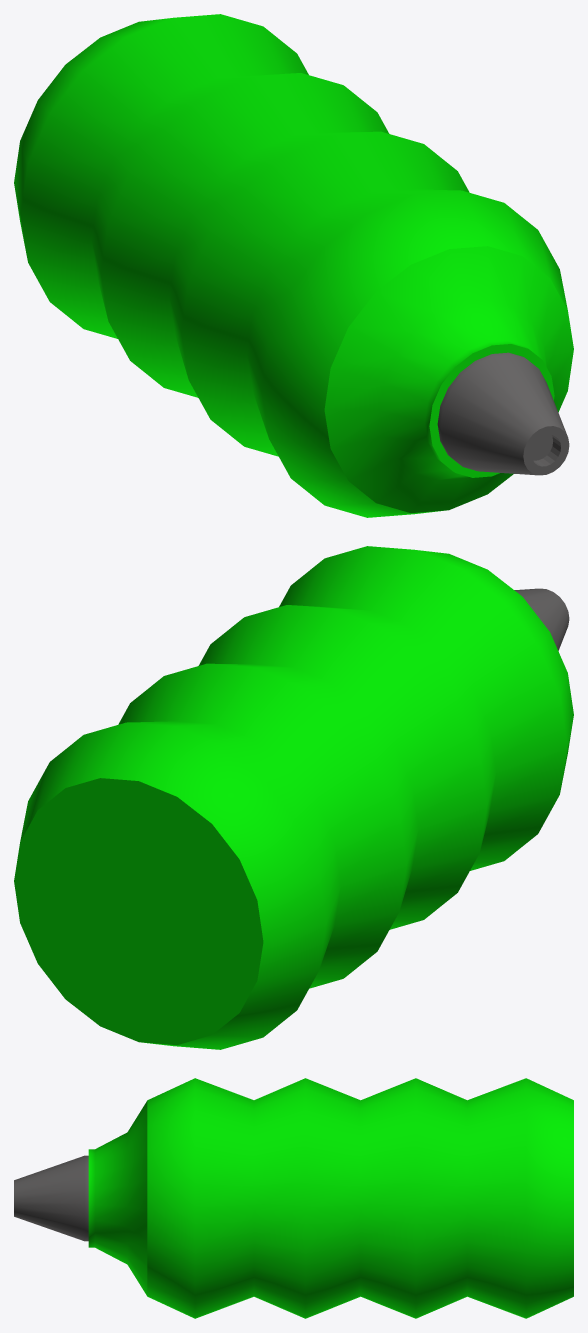
The model's file is Gun_03.fbx.
3 renders of one model, top to bottom at view 1: azimuth 30°, elevation 25°; view 2: azimuth 150°, elevation 25°; view 3: azimuth 270°, elevation 25°, orthographic. The views are drawn at different scales.
Parts seen in each view (by area): view 1: pCylinder36; view 2: pCylinder36; view 3: pCylinder36.
Boxes of the visible parts, box(x1,y1,x2,y2) form: pCylinder36: box(14, 14, 573, 517); pCylinder36: box(14, 546, 573, 1049); pCylinder36: box(14, 1078, 573, 1318).
Size of the model in its own units: 43.7 by 43.7 by 101.
